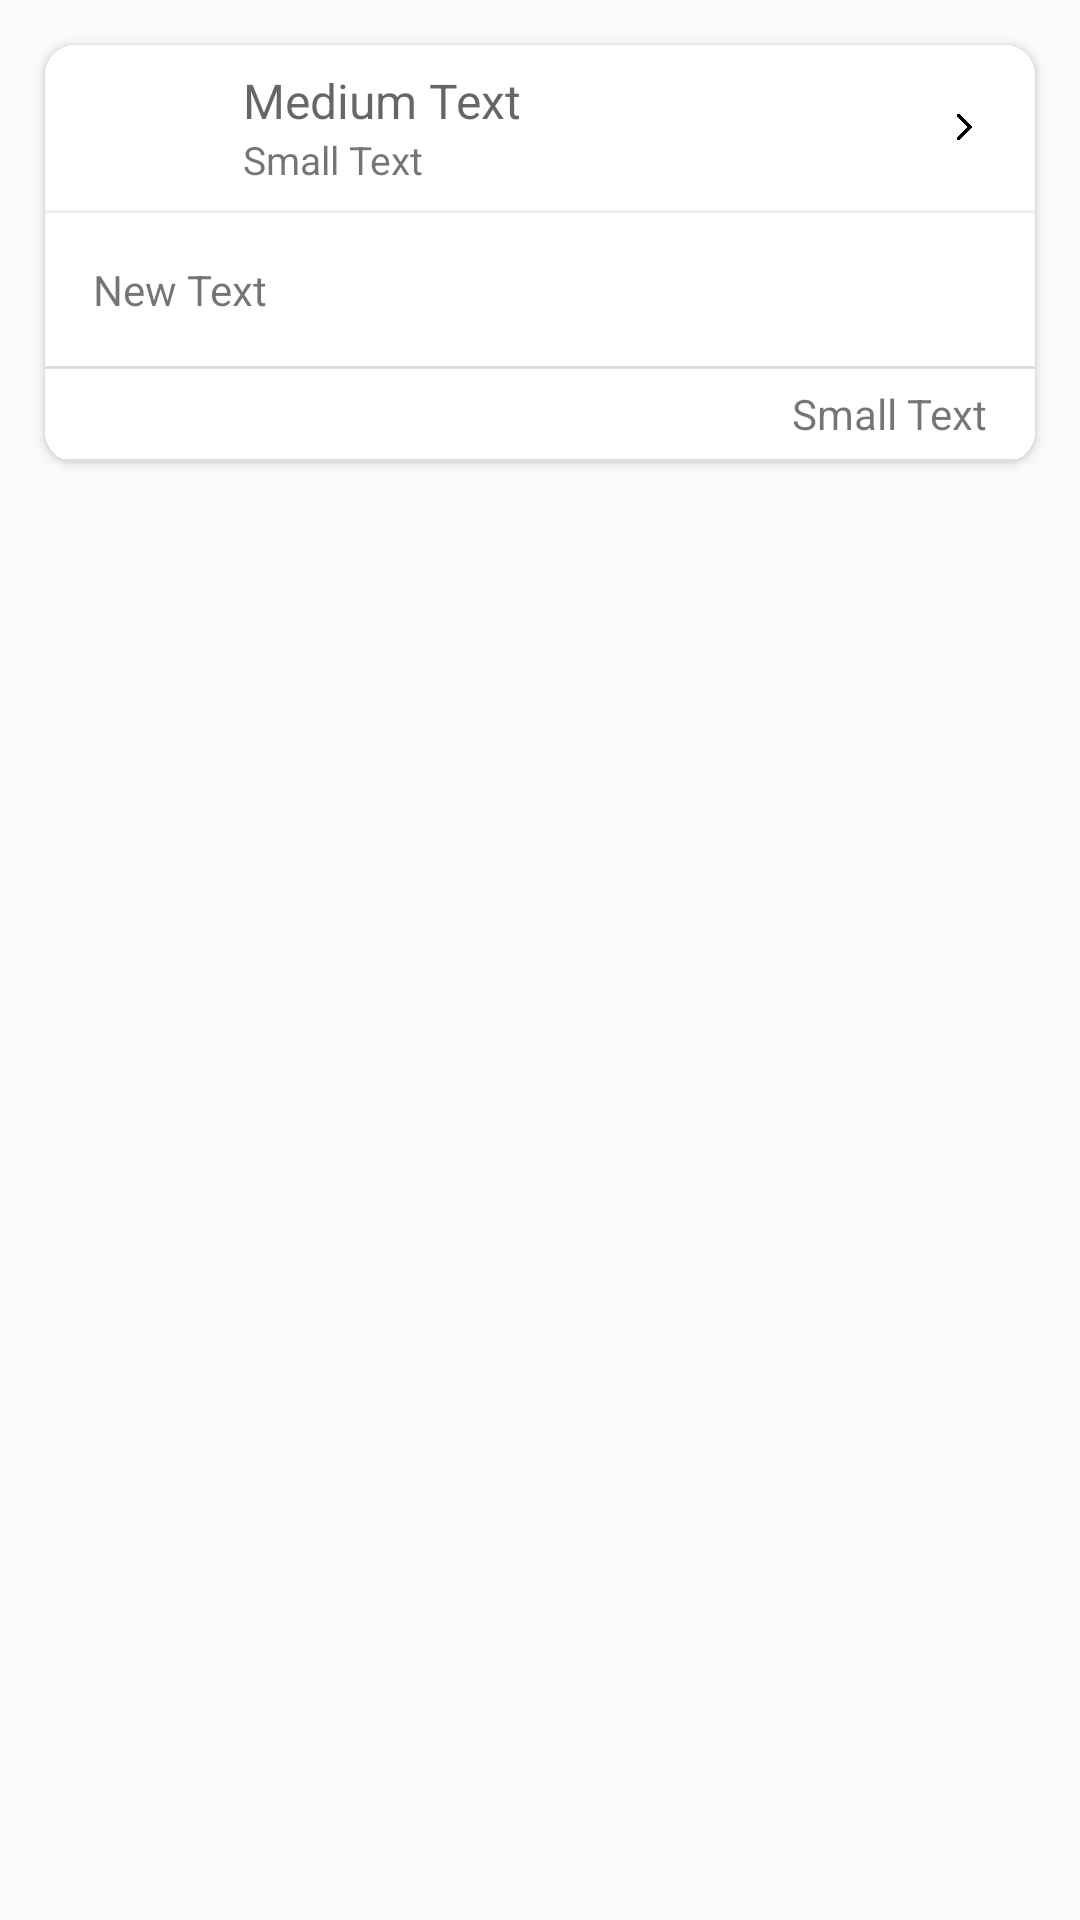

Icon bounding boxes for this 1080×1920 phone screenshot, format [x1=x1, y1=y1, x2=x2, y2=y2]:
arrow: [x1=957, y1=114, x2=972, y2=140]
